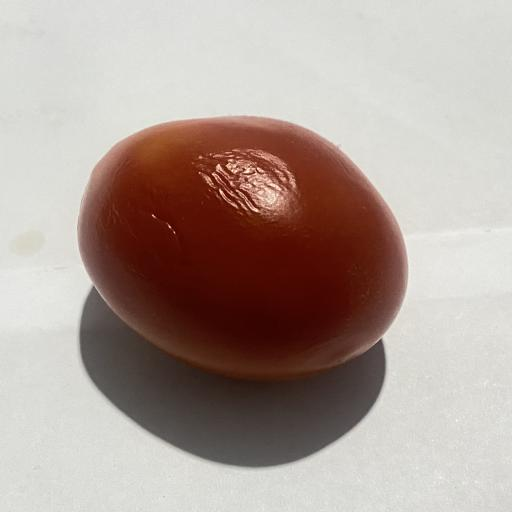overipe: (78, 116, 407, 380)
